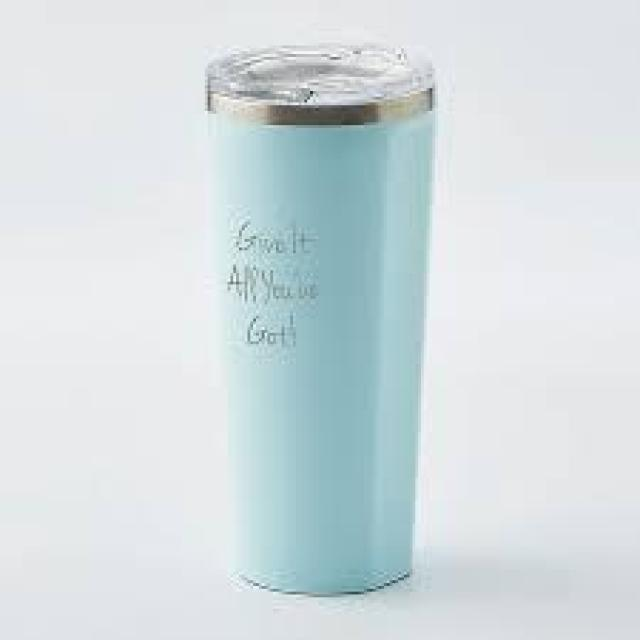bottle: (206, 41, 437, 599)
